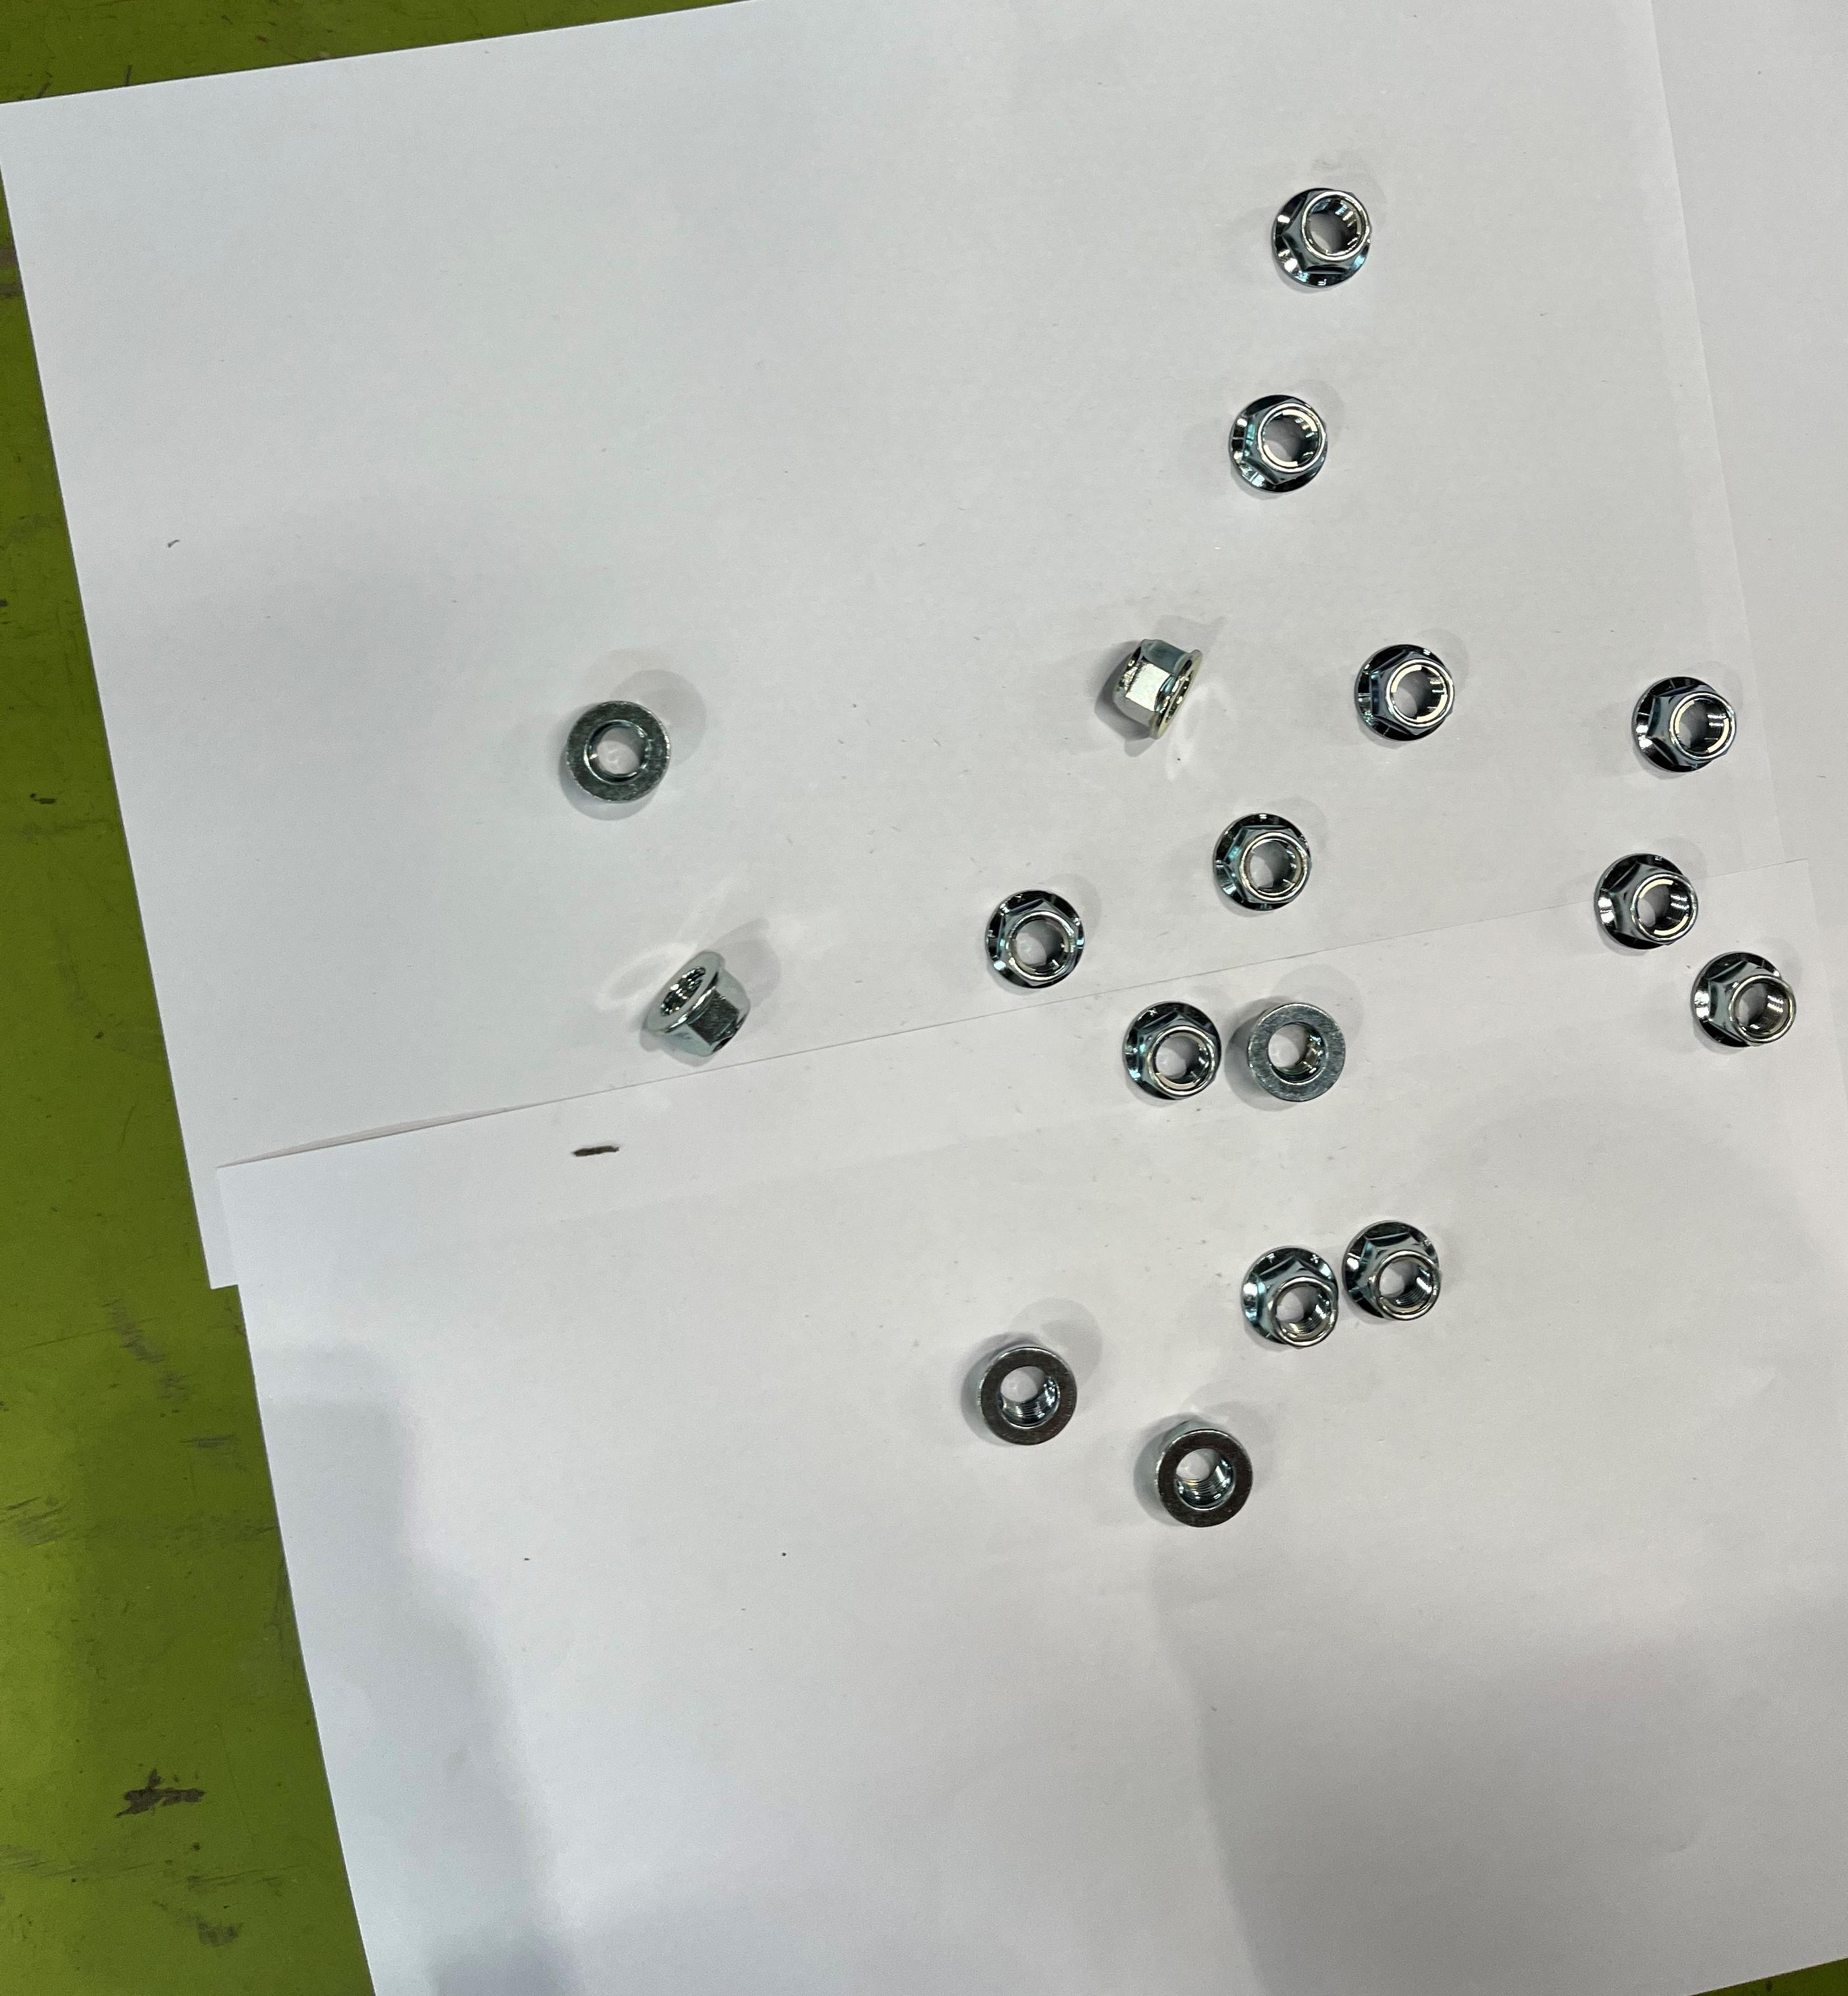Type B: (563, 697, 671, 805), (643, 951, 749, 1061), (1220, 393, 1332, 496), (1625, 676, 1738, 777), (1273, 179, 1373, 290), (1113, 1001, 1224, 1099), (1349, 643, 1455, 744), (1589, 854, 1702, 948), (1213, 808, 1314, 913), (1156, 1420, 1252, 1527), (1688, 953, 1796, 1047), (1248, 1005, 1349, 1104), (977, 1347, 1078, 1447), (984, 890, 1087, 988), (1240, 1248, 1339, 1347), (1342, 1222, 1441, 1320), (1113, 638, 1200, 741)
